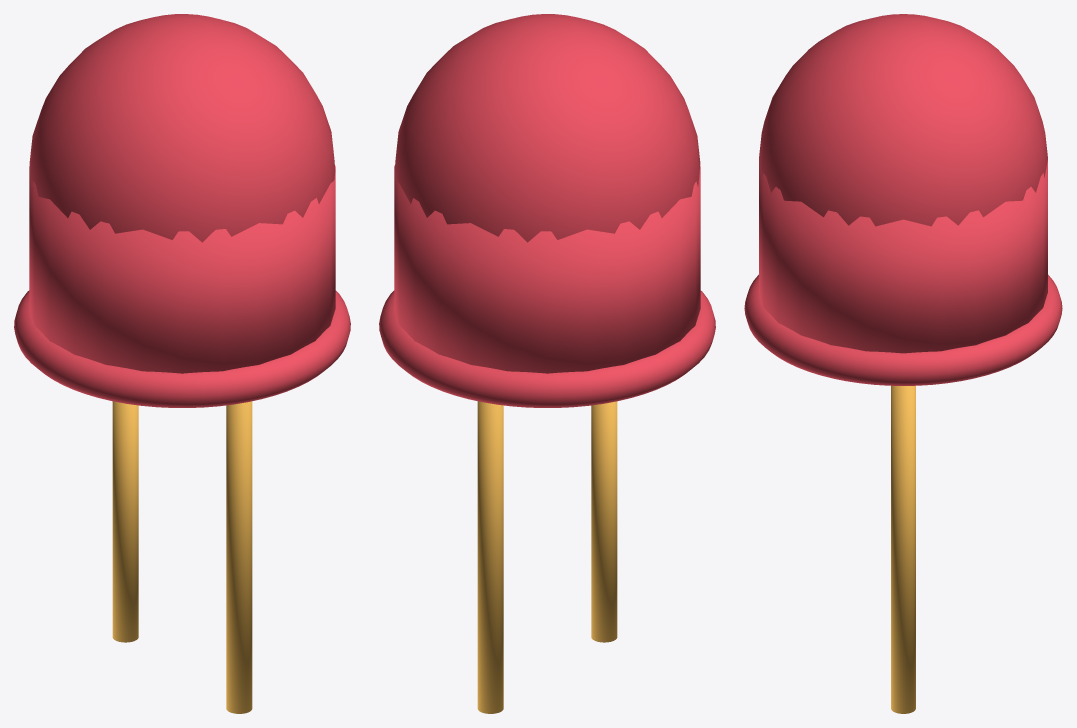
Rendered from led-quality.glb.
The picture shows the model from 3 angles, left to right: view 1: azimuth 30°, elevation 25°; view 2: azimuth 150°, elevation 25°; view 3: azimuth 270°, elevation 25°; orthographic projection. The views are drawn at different scales.
Parts seen in each view (by area): view 1: Opaque LED lens; view 2: Opaque LED lens; view 3: Opaque LED lens.
Part boxes in pixels (x1=…): Opaque LED lens: x1=14, y1=14, x2=350, y2=713; Opaque LED lens: x1=379, y1=14, x2=715, y2=713; Opaque LED lens: x1=744, y1=14, x2=1062, y2=713.
Bounding box in the file's own units: 0.77 × 1.75 × 0.77.
